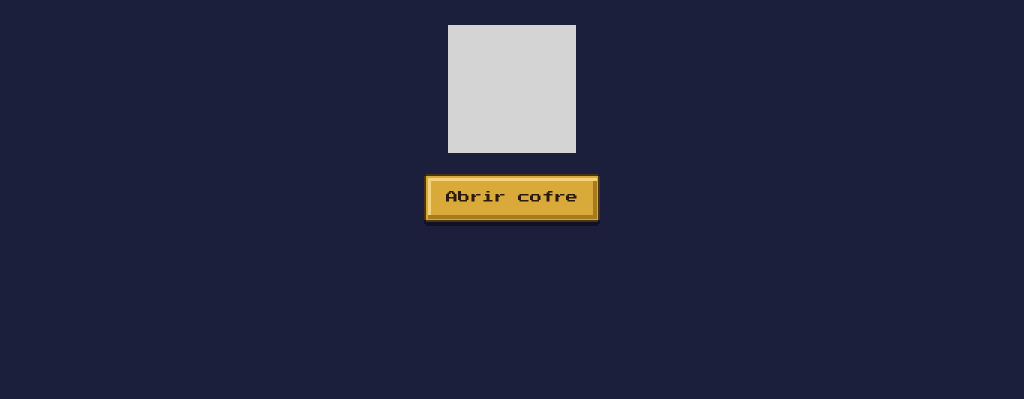
cofre › el cofre normal se sacude, se abre por frames y muestra el botín con su rareza
Later steps or results of the test are not shown.
Click the button "Abrir cofre": (512, 198) [424,174,600,222]
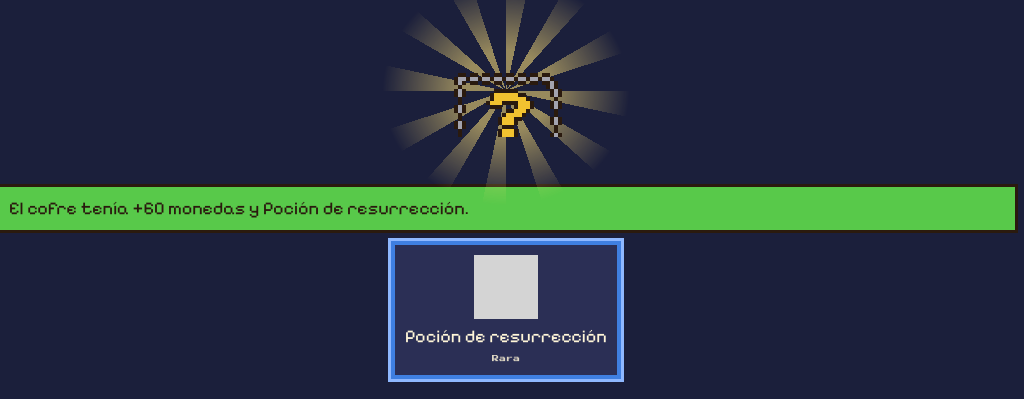
Expected: the text "Rara" is shown, [492,354,520,364]
